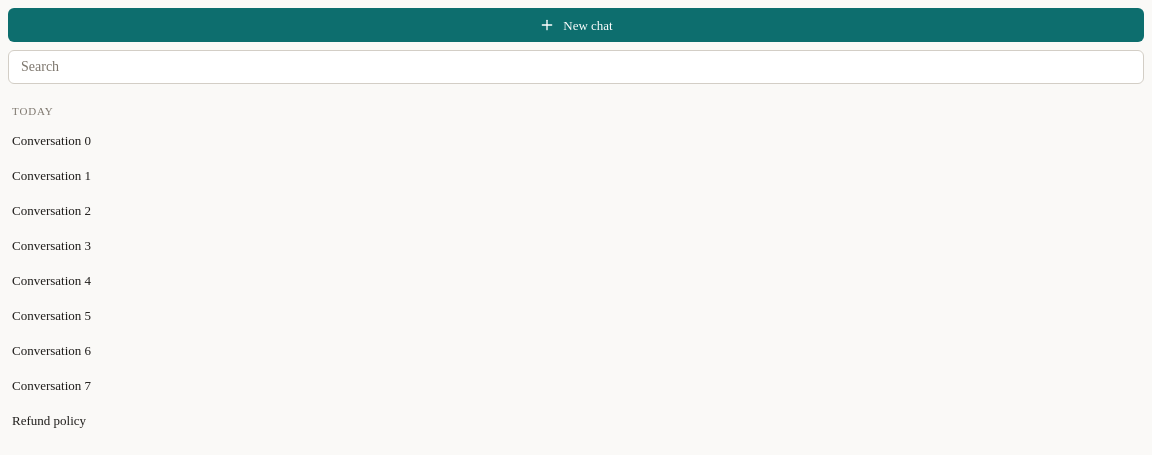
Test: ConversationList › filters by title once the list is long
This screenshot has width=1152, height=455.
Expected: the button "Refund policy" is shown, [12,403,1068,438]
Type "refund" into the search field named "Search conversations" at (576, 67), box [8,50,1144,84]
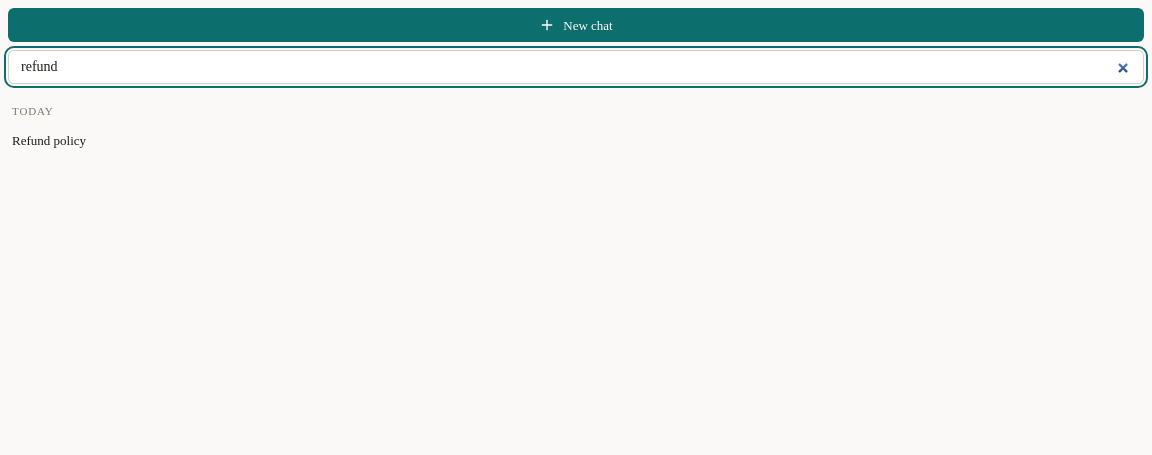
Expected: the button "Refund policy" is shown, [12,123,1068,158]
Expected: the button "Conversation 0" is gone
